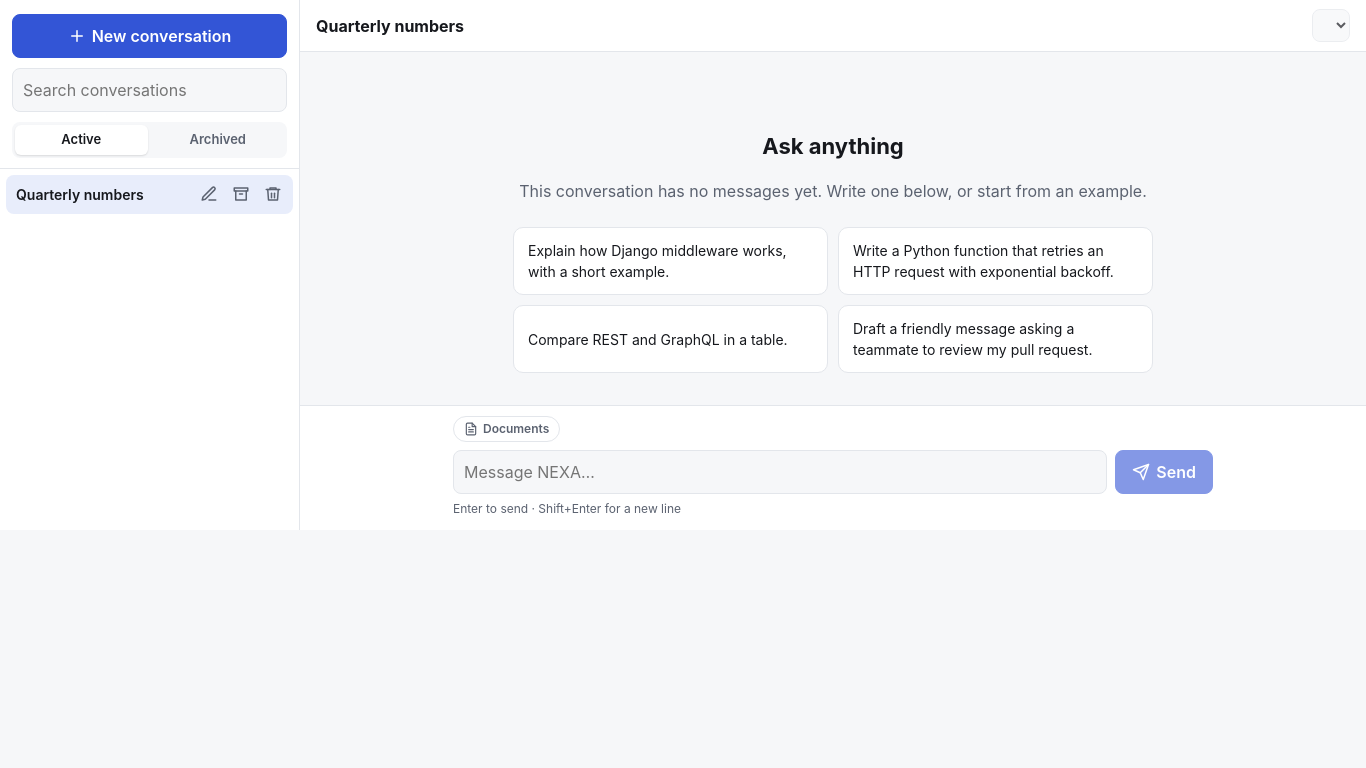
Test case: ChatPage answering from documents › drops the documents that are gone after a 404
Click the button "Documents" at (507, 429), box x1=453 y1=416 x2=560 y2=442
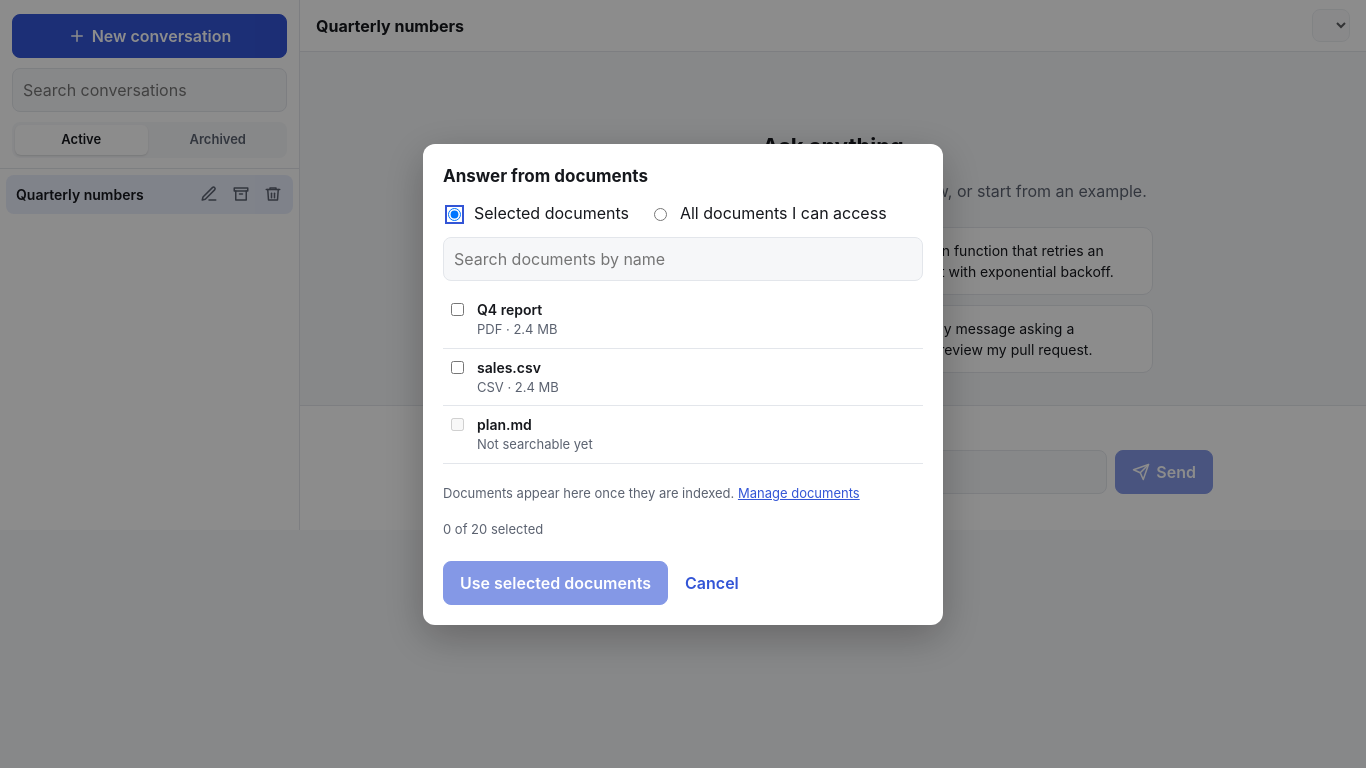
Click the checkbox labelled "Q4 report PDF · 2.4 MB" at (458, 310), box x1=451 y1=303 x2=464 y2=316
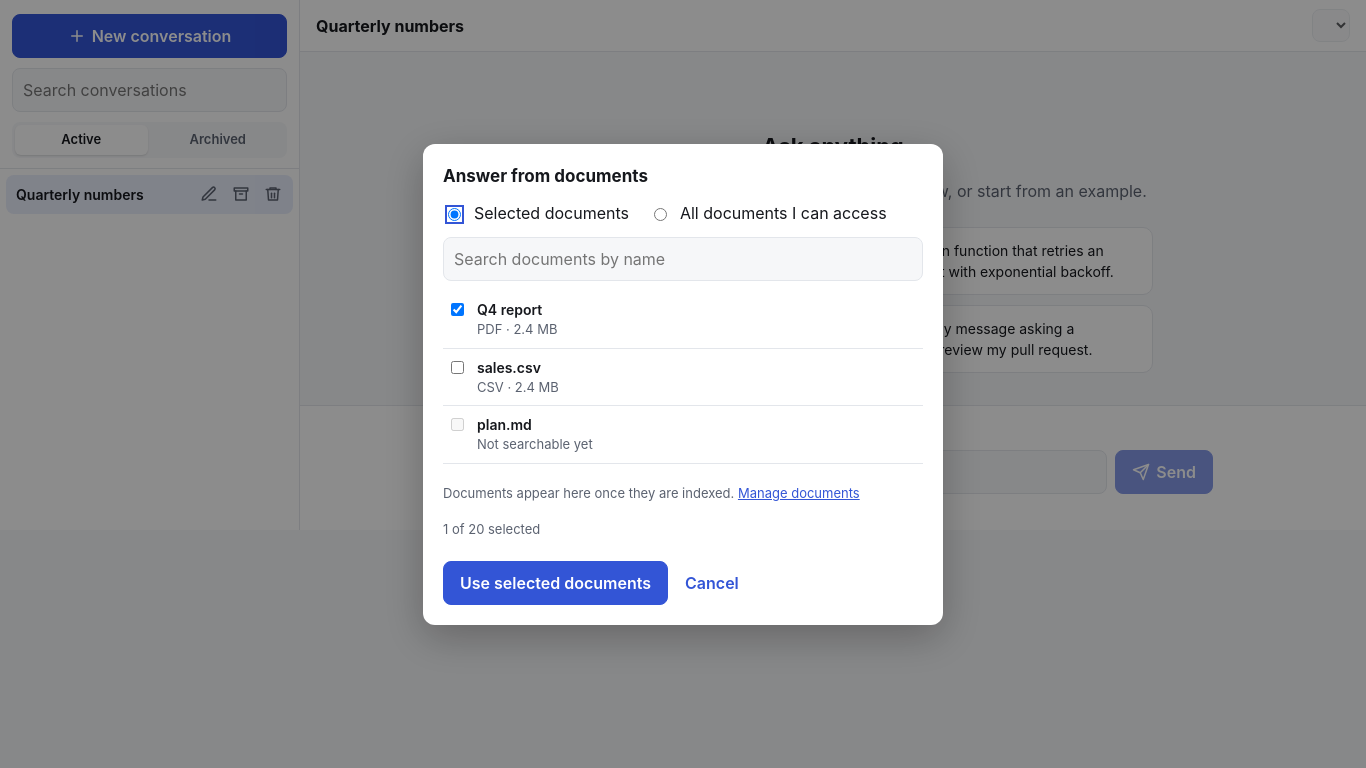
Click the checkbox labelled "sales.csv CSV · 2.4 MB" at (458, 367), box x1=451 y1=360 x2=464 y2=374
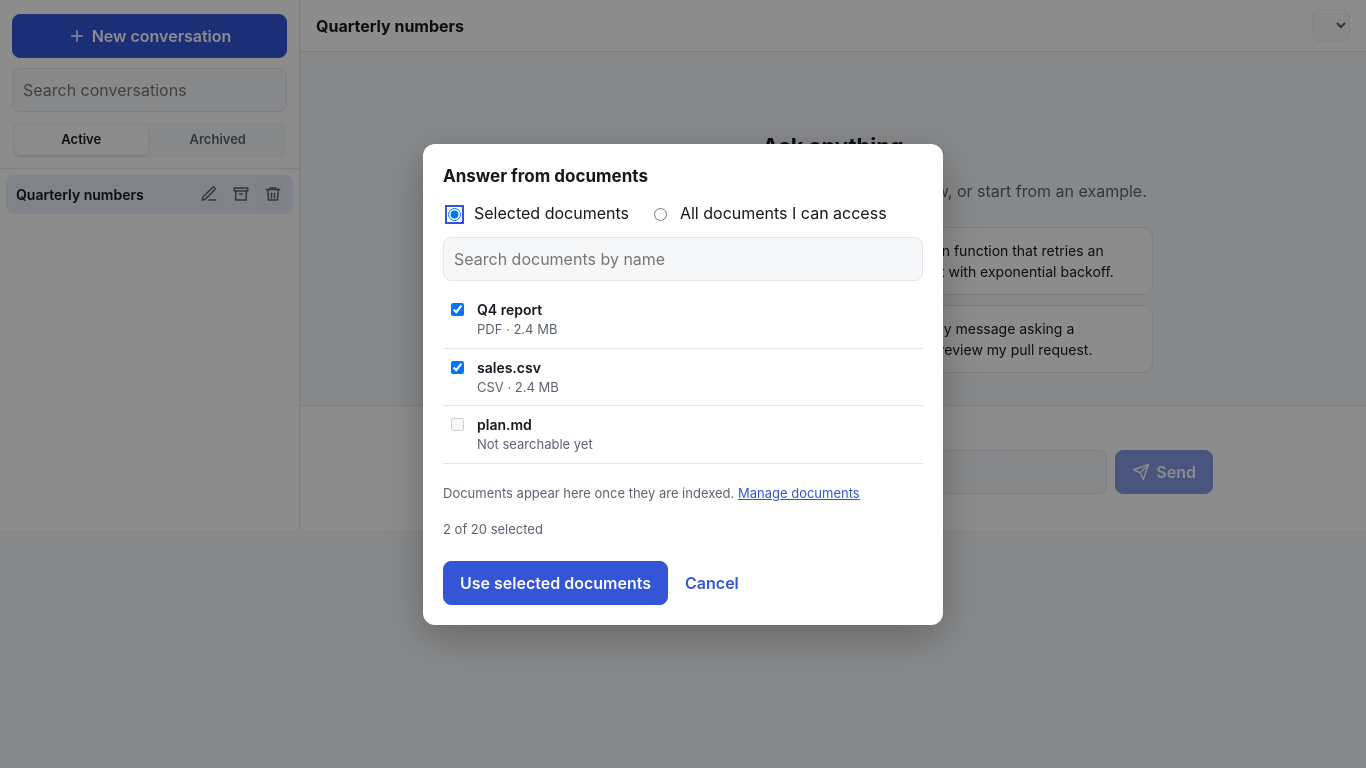
Click the button "Use selected documents" at (556, 582), box x1=443 y1=560 x2=668 y2=604
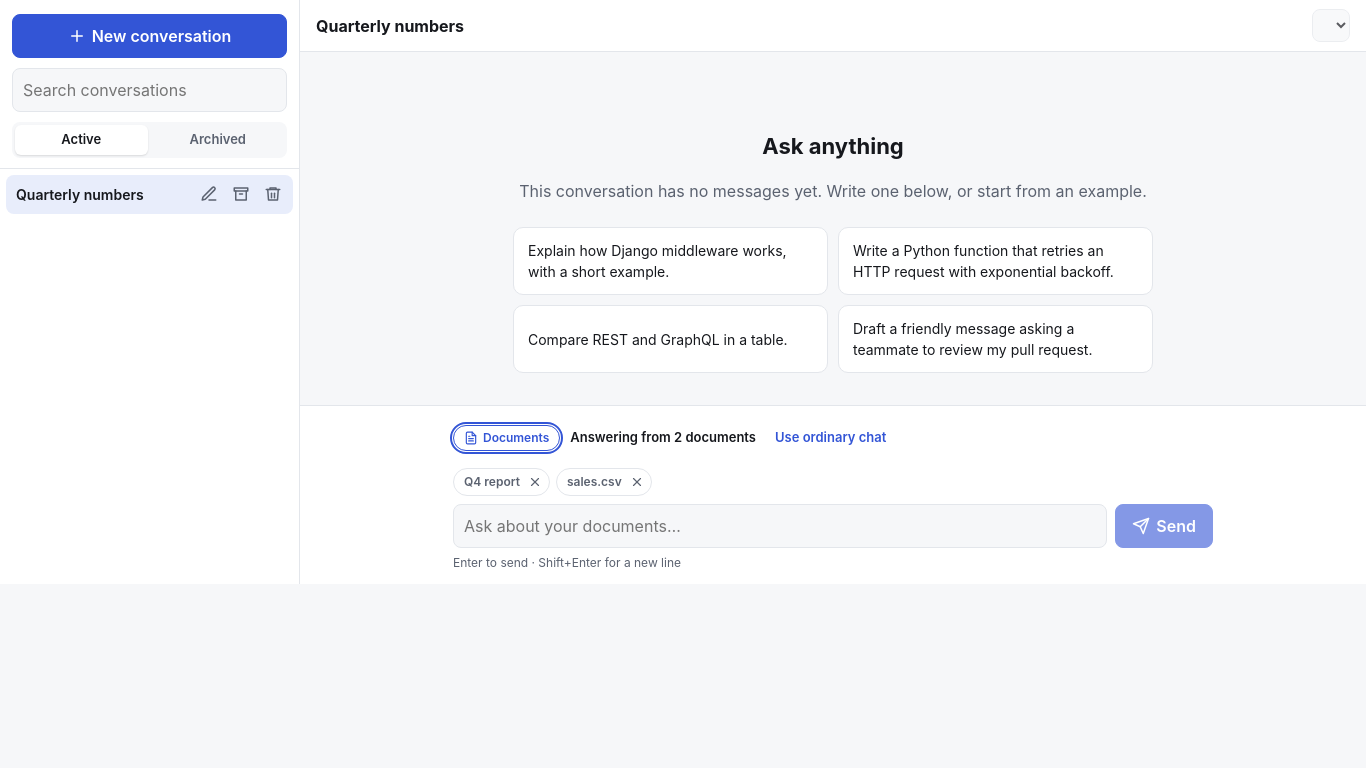
Type "How did revenue do?" into the text box named "Message" at (780, 526), box x1=453 y1=504 x2=1107 y2=548
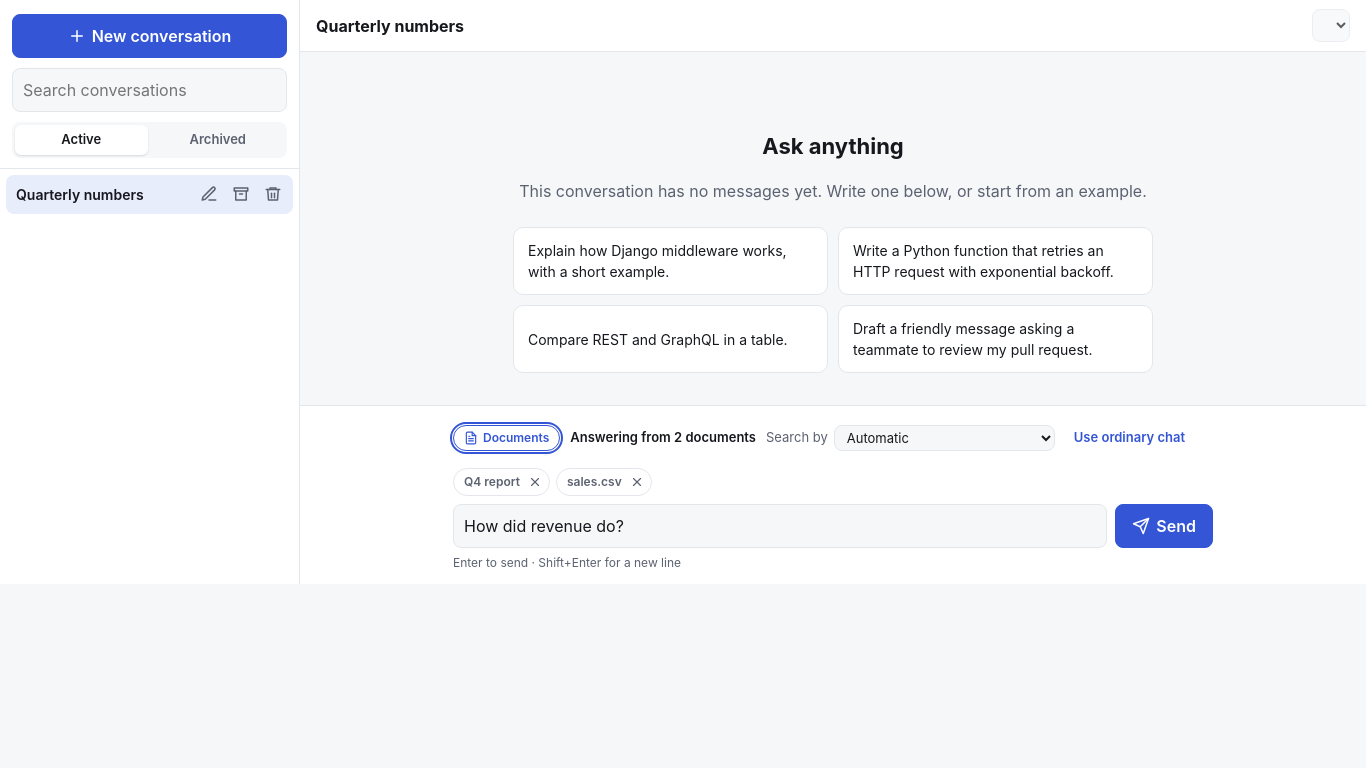
Click the button "Send" at (1164, 526), box x1=1115 y1=504 x2=1213 y2=548
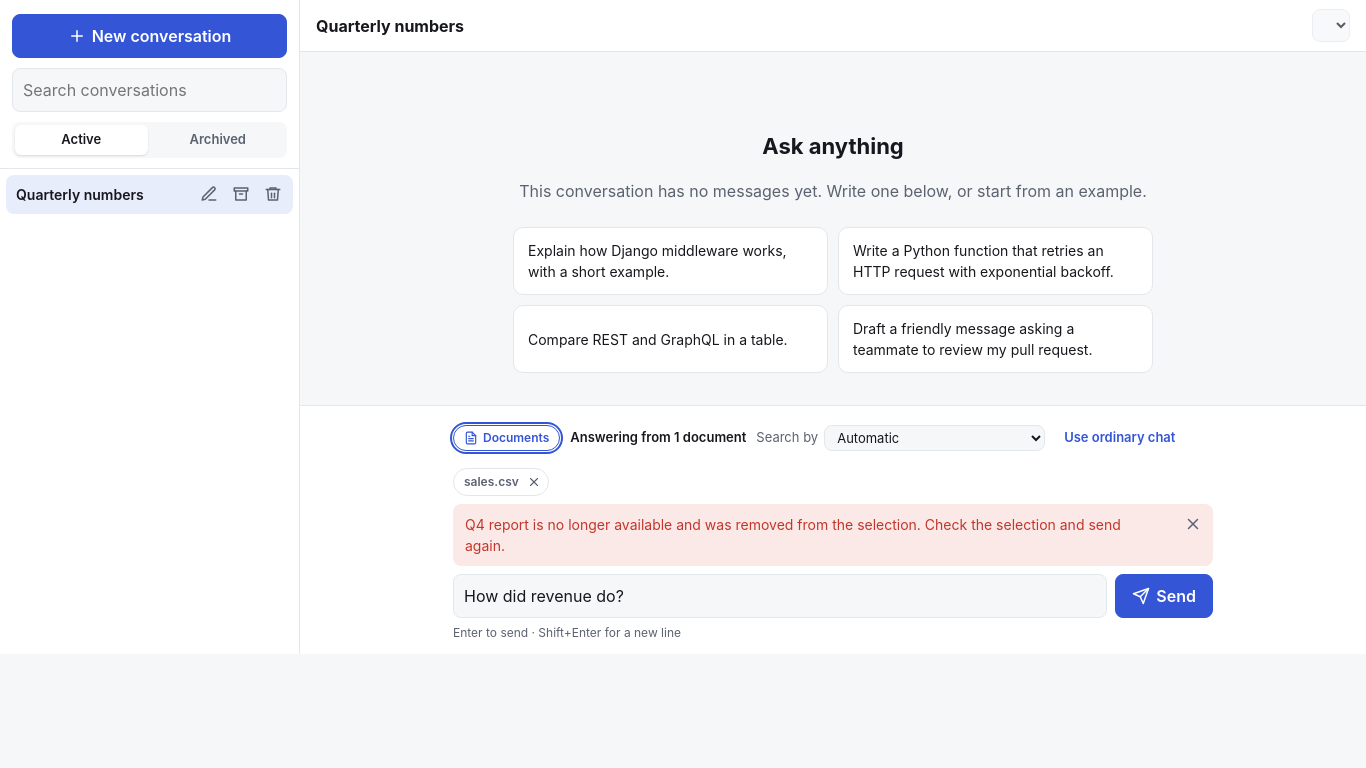
Result: the message shows "Q4 report is no longer available and was removed from the selection. Check the selection and send again." at x1=465 y1=516 x2=1121 y2=554
Result: the list items read "sales.csv", in this order at x1=453 y1=468 x2=549 y2=496
